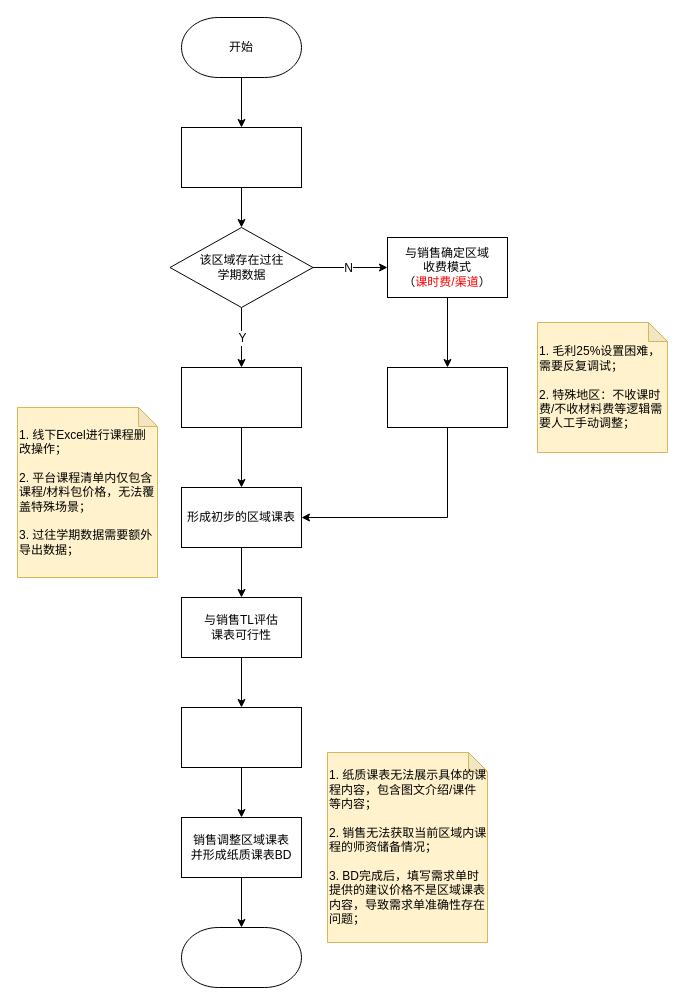
Image size: 685x1005. Some labels were removed from this diagram. Here are the shapes that lost their labels. From the top down, the centre of each, then its label:
pixel 241 157: 平台课程清单 导出全量课程
pixel 241 397: 根据过往学期需求单 选择课程与价格
pixel 447 397: 根据市场接受度 与25%毛利选择课程 并进行定价
pixel 241 737: 产出最终区域课表
pixel 241 957: 结束
